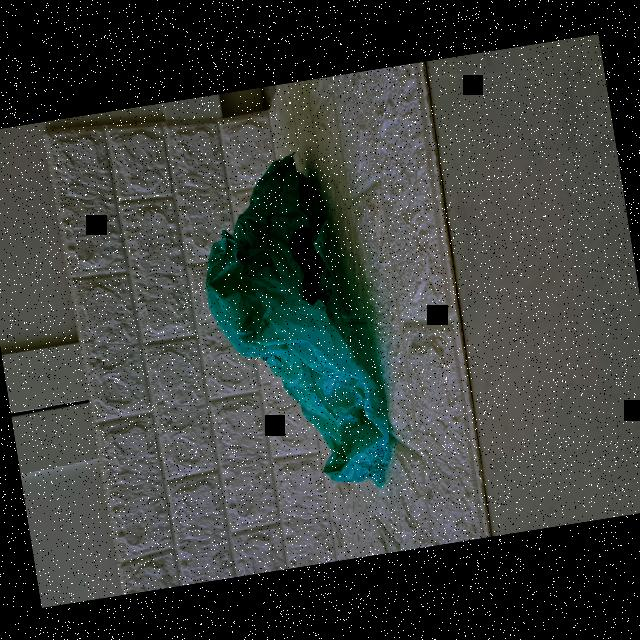plastic_bag: (184, 140, 400, 504)
